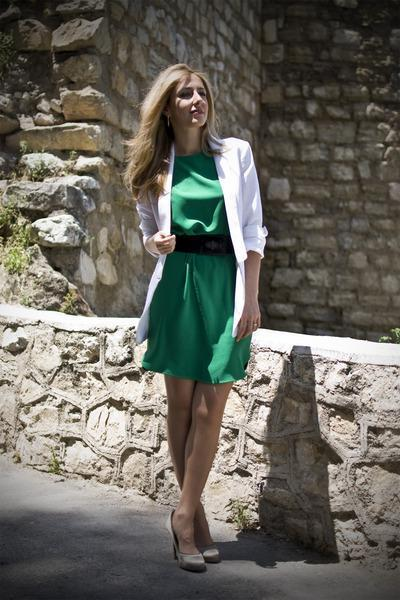dress: (134, 146, 250, 384)
jacket: (129, 131, 272, 345)
